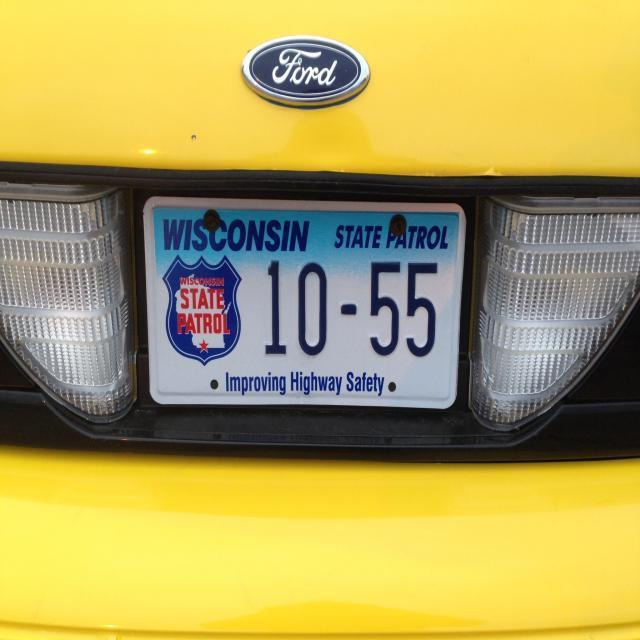License_Plate: (142, 191, 468, 417)
